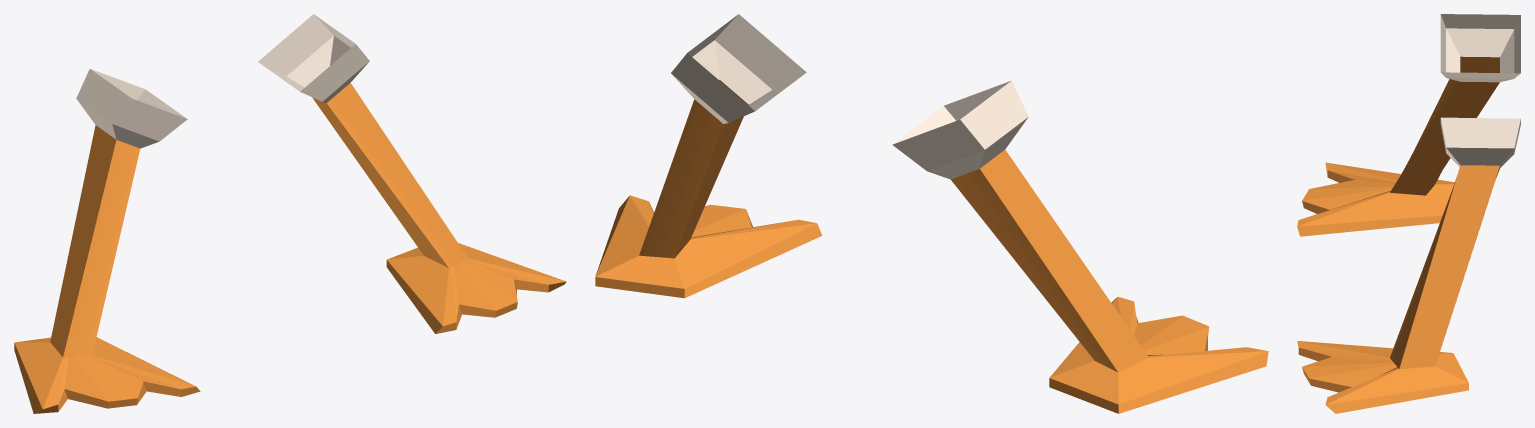
Rendered from Duck.001.glb.
3 views of the same model, side by side, from view 1: azimuth 30°, elevation 25°; view 2: azimuth 150°, elevation 25°; view 3: azimuth 270°, elevation 25° (orthographic). The views are drawn at different scales.
Visible parts, largest first — view 1: Duck.002; view 2: Duck.002; view 3: Duck.002.
Part boxes in pixels (box(x1,y1,x2,y2)): Duck.002: box(14, 14, 566, 413); Duck.002: box(595, 14, 1268, 413); Duck.002: box(1297, 14, 1520, 413).
Size of the model in its own units: 5.08 by 2.17 by 1.95.
1 material, 1 textured.
